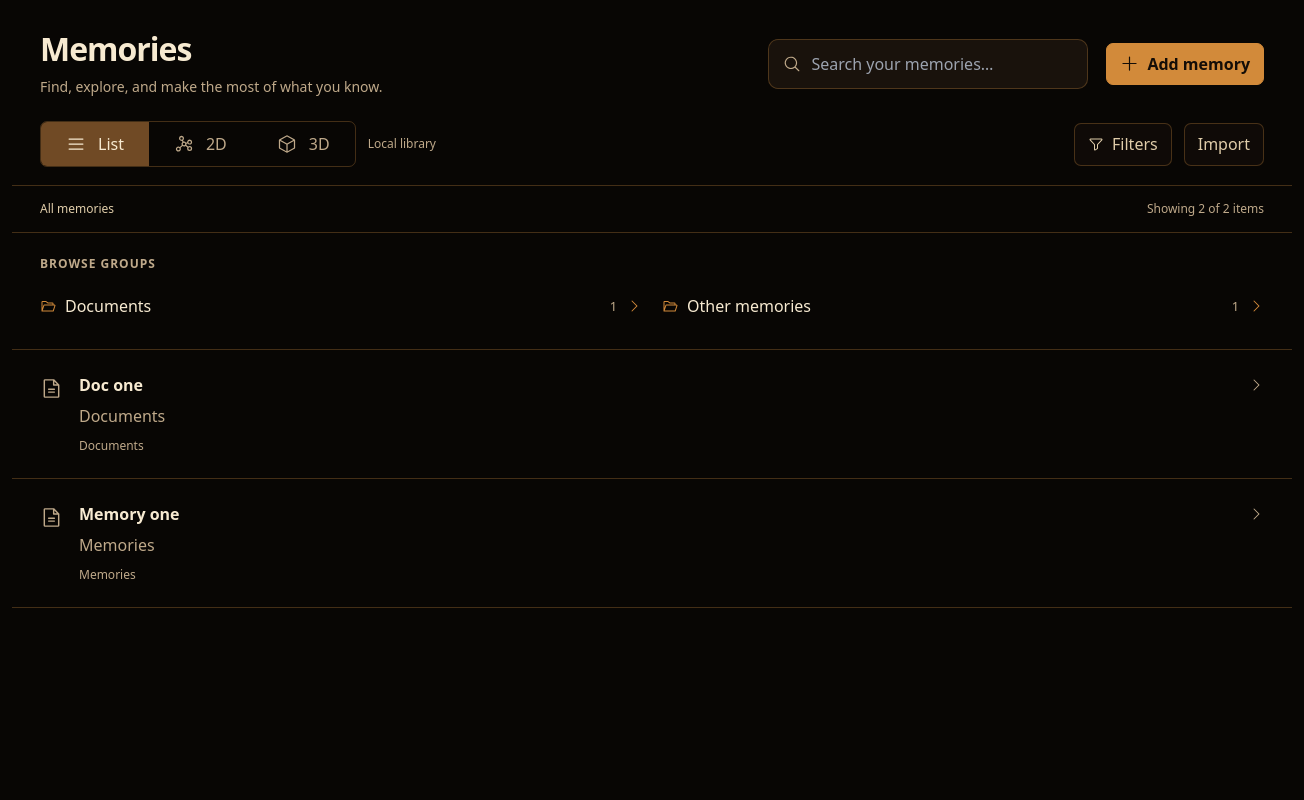
Test case: MemoryWorkspace graph label switch › lives in the filters panel, not the control row
This screenshot has width=1304, height=800.
Expected: the field labelled "Graph labels" is not shown
Click the button "Filters". click: (1123, 144)
box: [1074,123,1172,166]
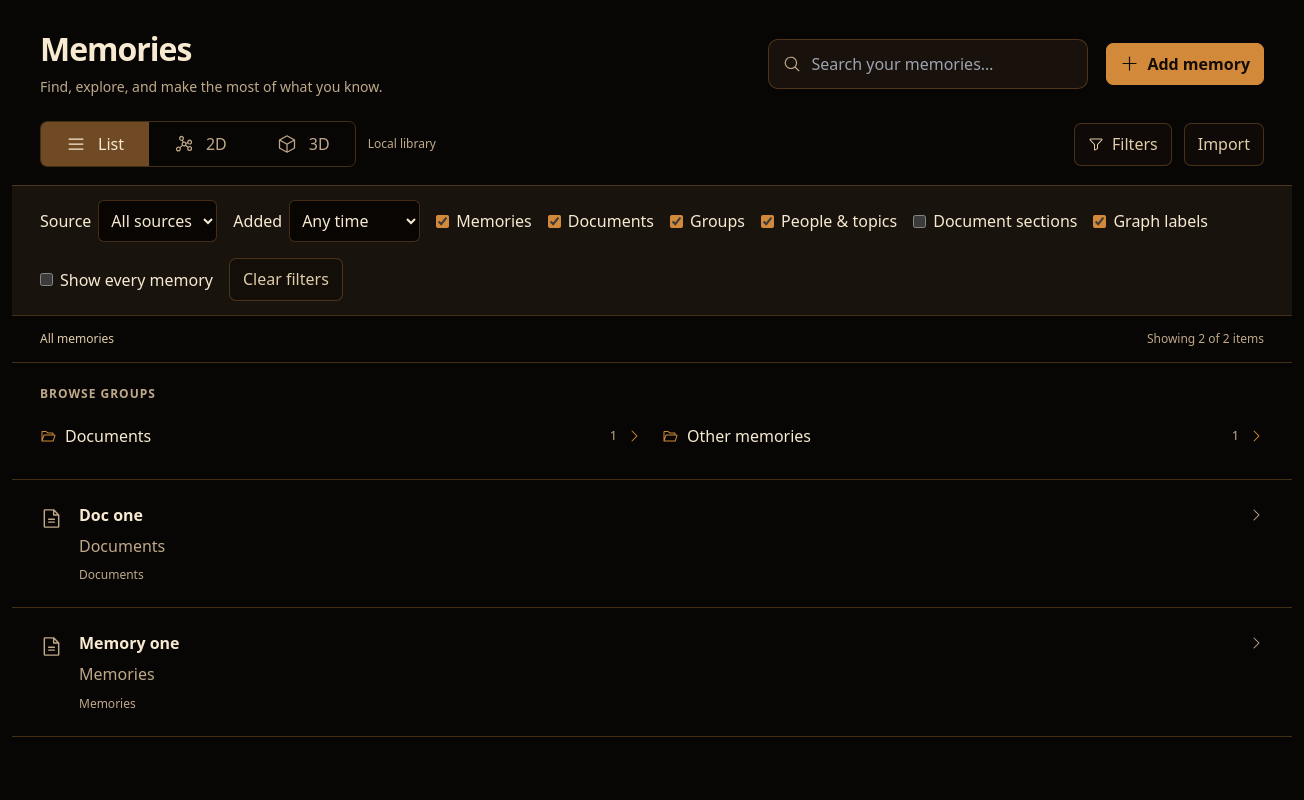
Expected: the checkbox labelled "Graph labels" is shown, [1094,215,1106,228]
